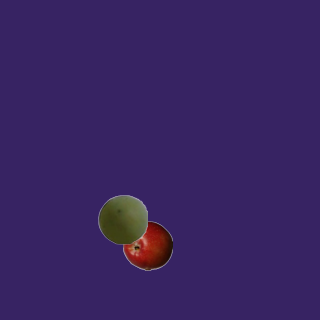Apple Braeburn: (122, 220, 172, 270)
Grape White 4: (97, 194, 147, 244)
